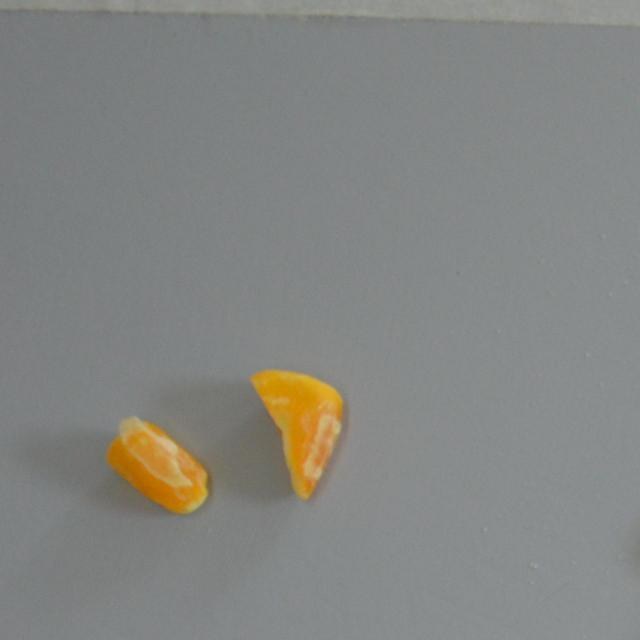pelicula: (242, 367, 344, 498), (100, 414, 210, 513)
